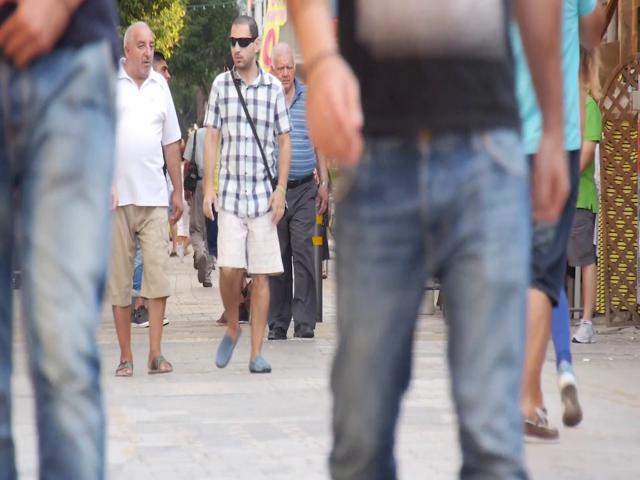shoe: (558, 361, 583, 427), (522, 407, 559, 444), (215, 326, 241, 368), (572, 321, 595, 343), (147, 355, 173, 374), (249, 357, 271, 373), (115, 358, 133, 376), (293, 324, 315, 338)
